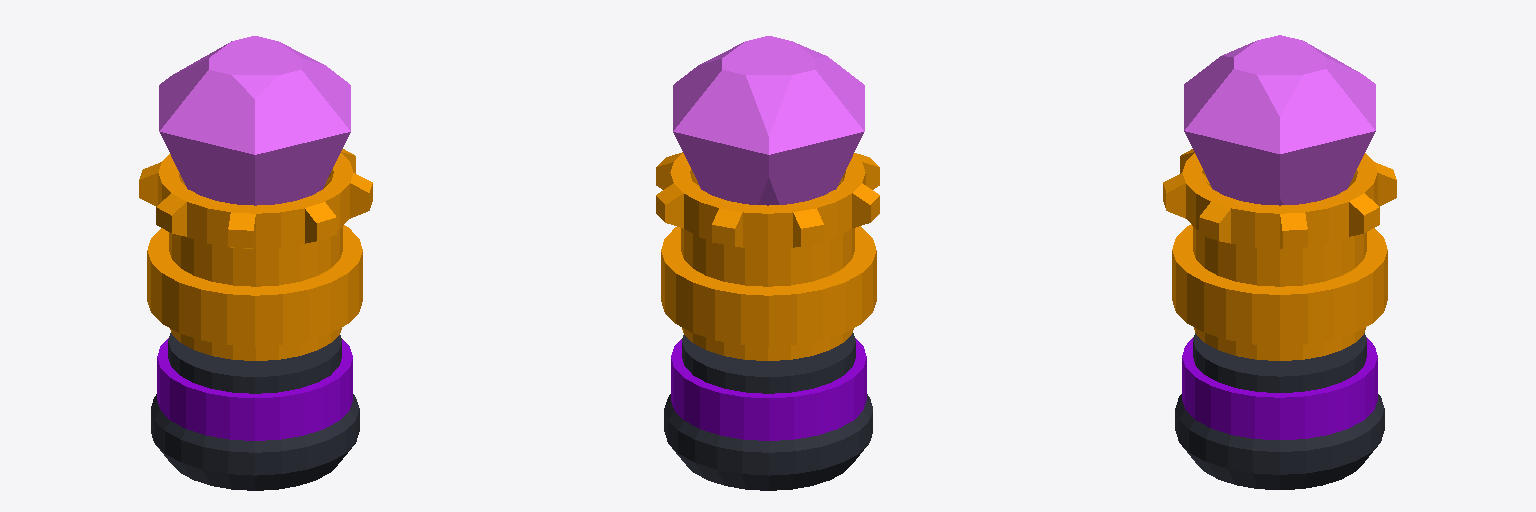
File: tower_huge_pink_diamond.obj
The picture shows the model from 3 angles: view 1: azimuth 30°, elevation 25°; view 2: azimuth 150°, elevation 25°; view 3: azimuth 270°, elevation 25°; orthographic projection.
Parts seen in each view (by area): view 1: mergedBlocks; view 2: mergedBlocks; view 3: mergedBlocks.
Part boxes in pixels (x1,y1,x2,y2): mergedBlocks: (139, 36, 372, 490); mergedBlocks: (656, 36, 879, 490); mergedBlocks: (1163, 35, 1396, 489).
Bounding box in the file's own units: 1.07 × 2.01 × 1.07.